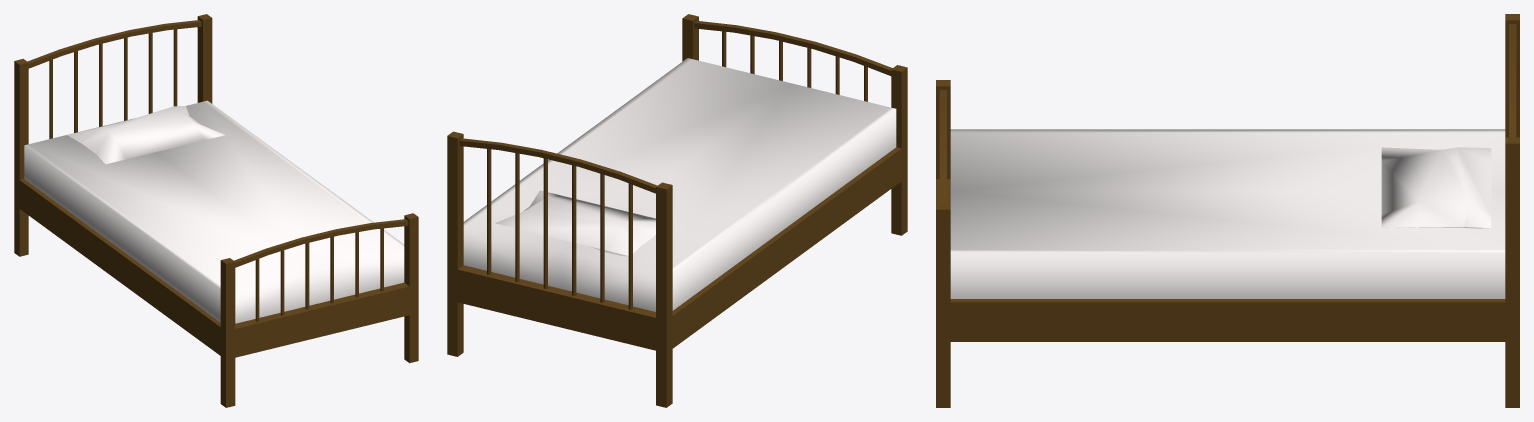
The model's file is bed.dae.
3 renders of one model, left to right at view 1: azimuth 30°, elevation 25°; view 2: azimuth 150°, elevation 25°; view 3: azimuth 270°, elevation 25°, orthographic. The views are drawn at different scales.
Parts seen in each view (by area): view 1: bed_half (×8), Pillow, bed_bar (×2); view 2: bed_half (×8), Pillow, bed_bar (×6); view 3: bed_half (×6), Pillow.
Part boxes in pixels (x1=…): bed_half (×8): x1=14, y1=14, x2=418, y2=407; Pillow: x1=67, y1=106, x2=224, y2=164; bed_bar (×2): x1=148, y1=29, x2=177, y2=113; bed_half (×8): x1=447, y1=14, x2=907, y2=407; Pillow: x1=495, y1=190, x2=676, y2=256; bed_bar (×6): x1=487, y1=149, x2=632, y2=309; bed_half (×6): x1=936, y1=14, x2=1519, y2=407; Pillow: x1=1381, y1=147, x2=1491, y2=228.
Bounding box in the file's own units: 42 × 80 × 40.86.
